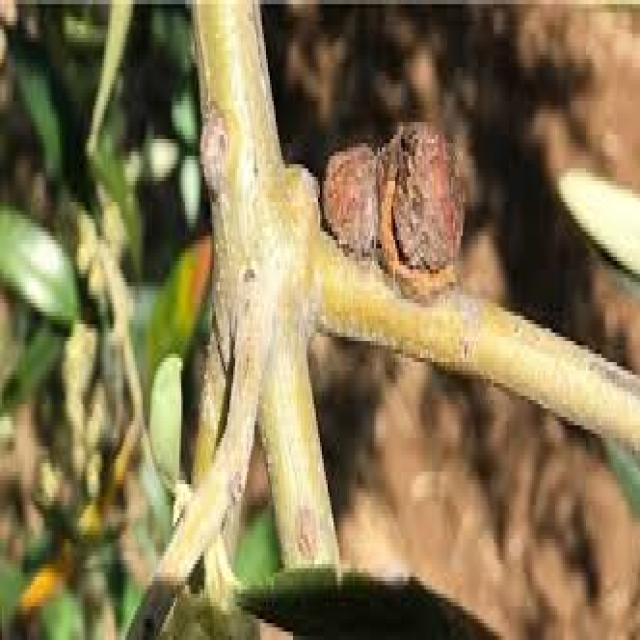Tuberculosis: (324, 122, 463, 299)
